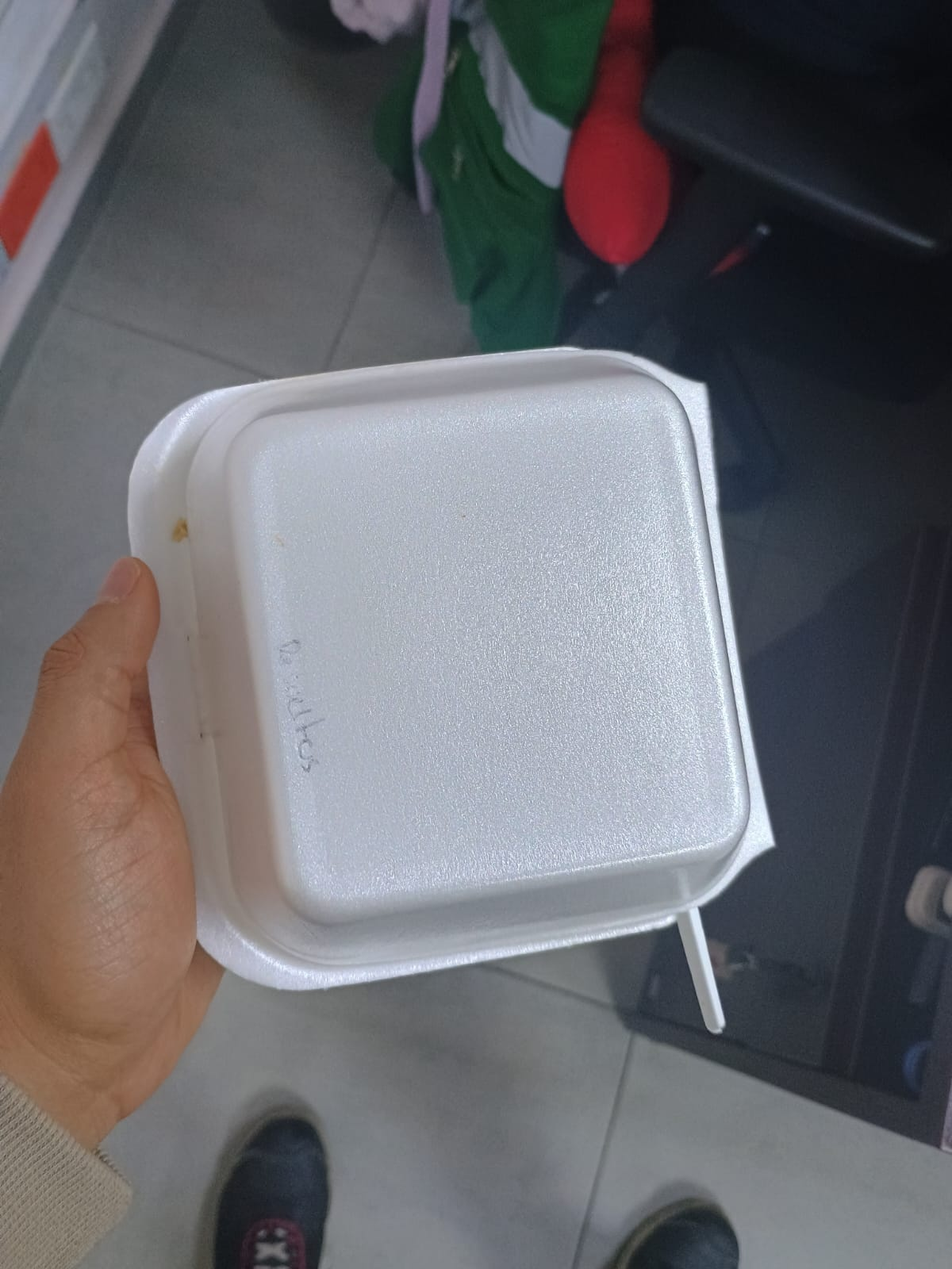Ordinario: (124, 345, 779, 991), (591, 871, 630, 899)
